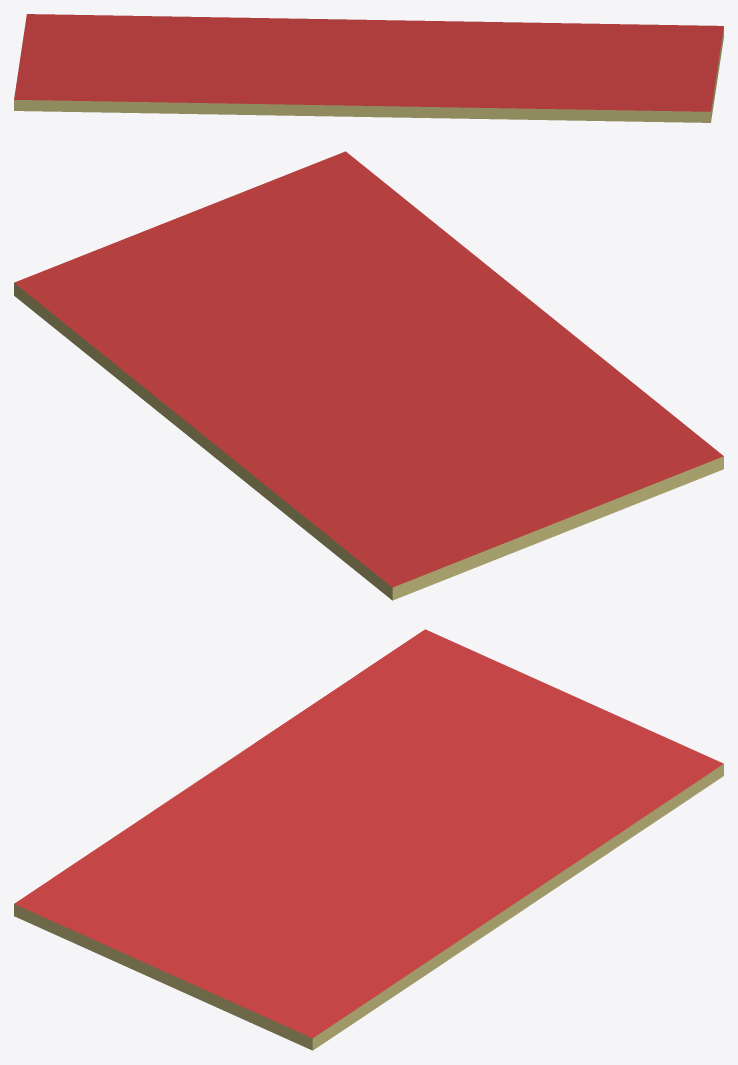
3 renders of one model, top to bottom at view 1: azimuth 30°, elevation 25°; view 2: azimuth 150°, elevation 25°; view 3: azimuth 270°, elevation 25°, orthographic. The views are drawn at different scales.
Size of the model in its own units: 6.18 by 5.23 by 0.544.
